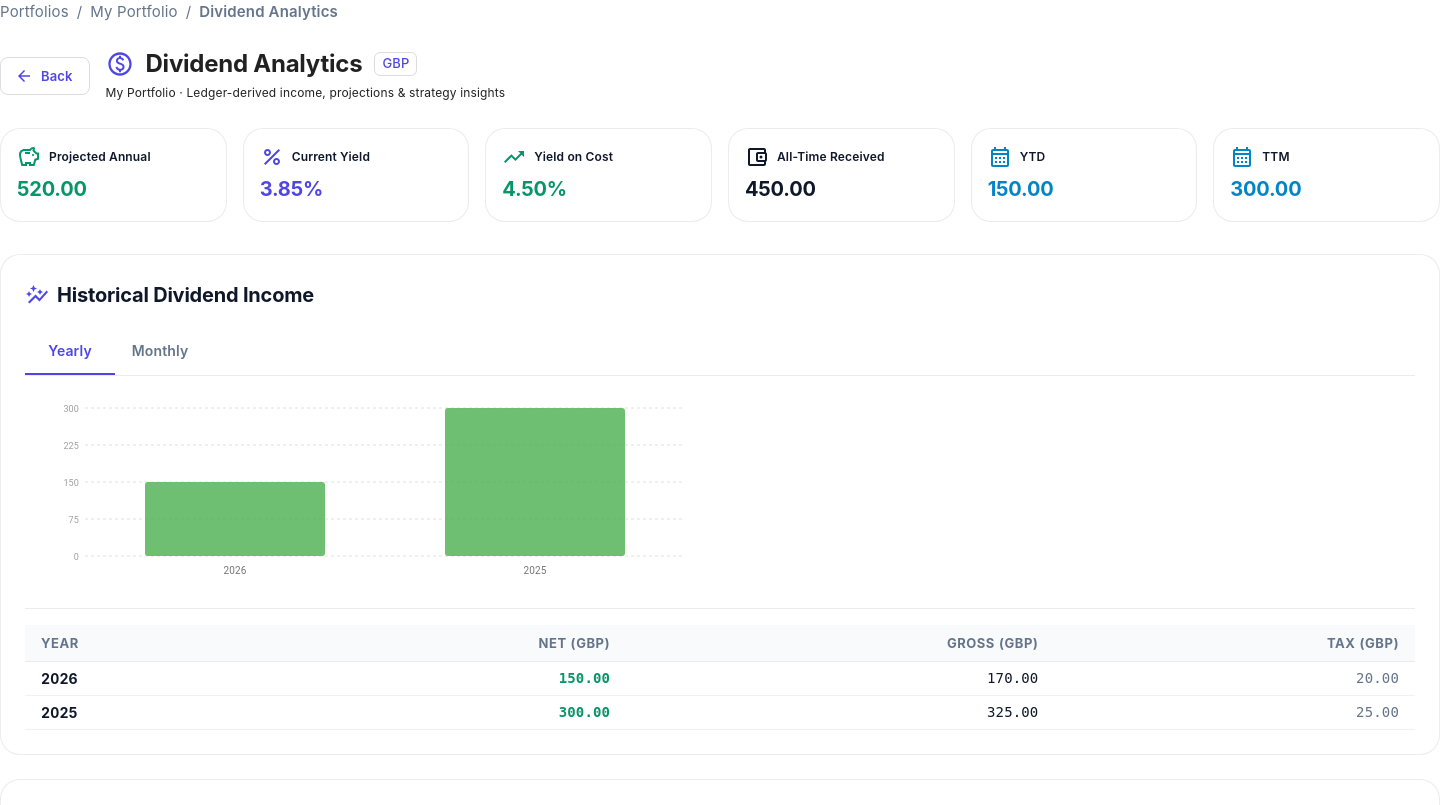
Test: DividendDetailPage › switches to monthly history tab
The width and height of the screenshot is (1440, 805).
expect the heading "Historical Dividend Income" is shown: met, box [57,279,314,311]
Click the tab "Monthly". click: click(160, 351)
box: [115,327,205,375]
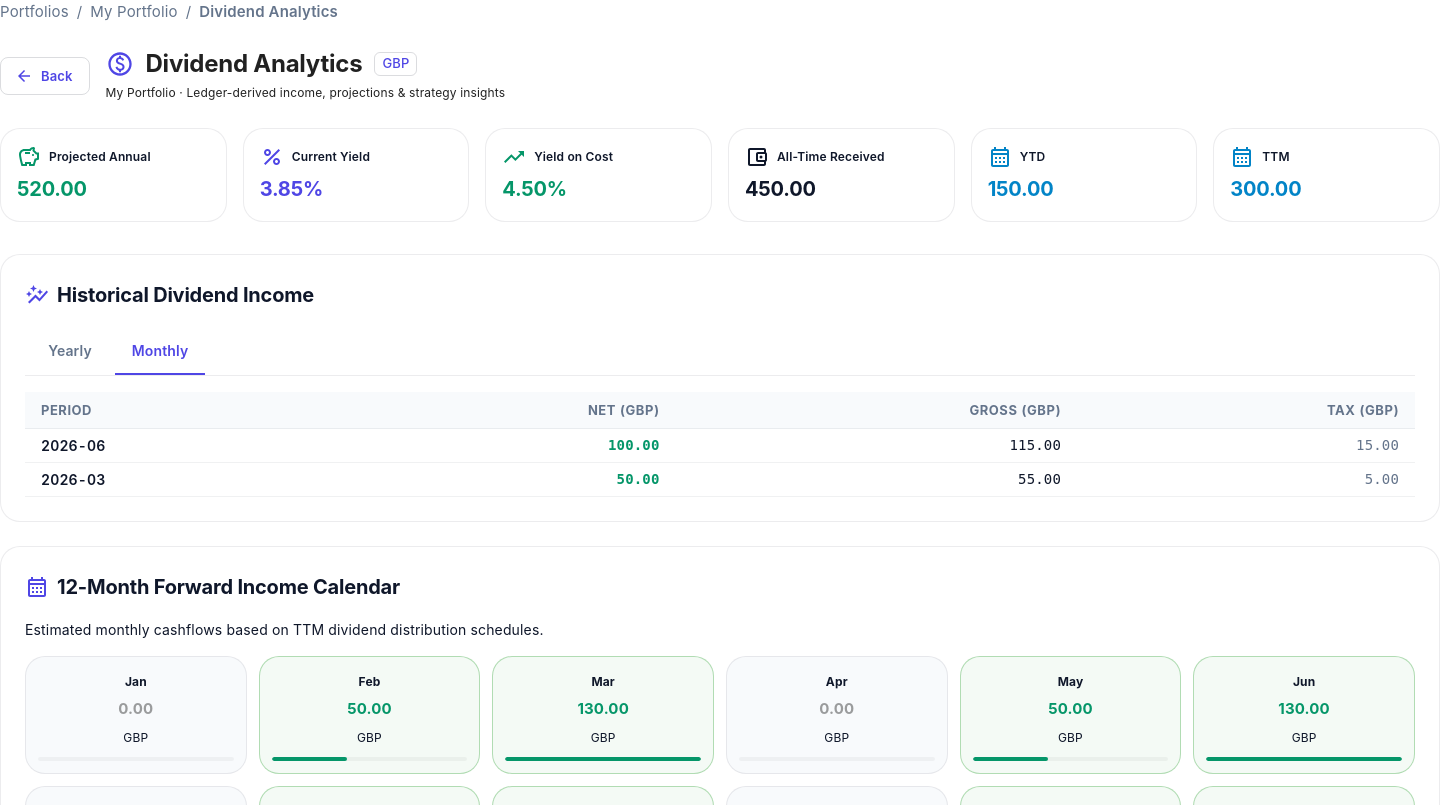
expect the text "2026-06" is shown: met, box [25,428,339,462]
expect the text "2026-03" is shown: met, box [25,462,339,496]
